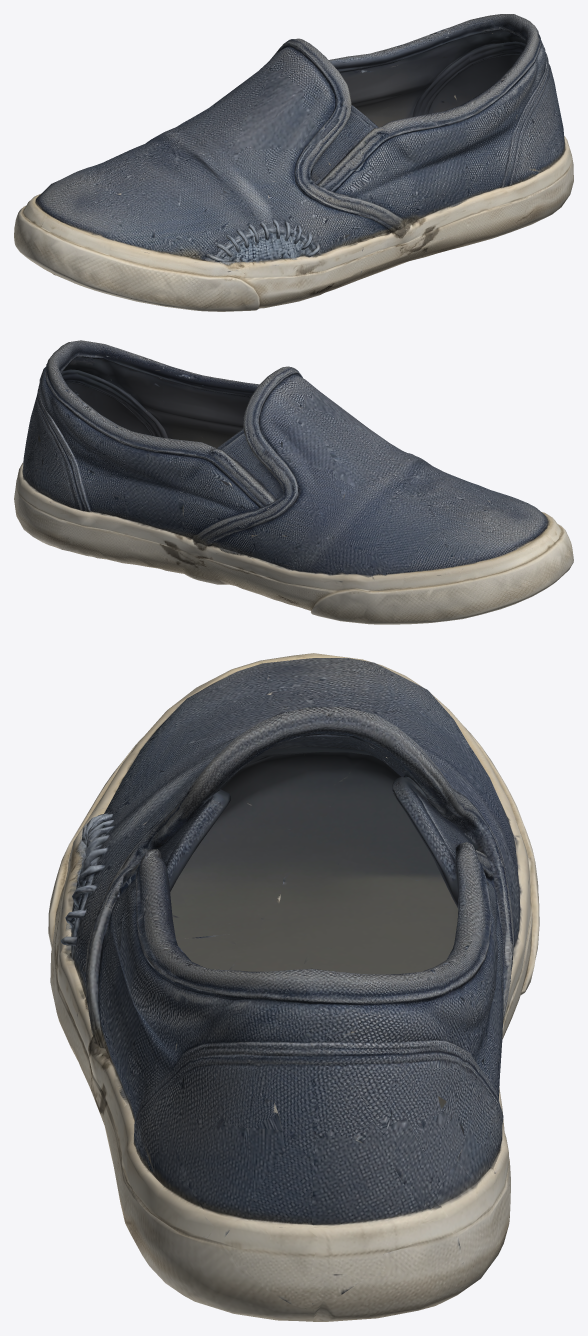
File: shoe.glb
3 renders of one model, top to bottom at view 1: azimuth 30°, elevation 25°; view 2: azimuth 150°, elevation 25°; view 3: azimuth 270°, elevation 25°, orthographic. The views are drawn at different scales.
Parts seen in each view (by area): view 1: 蓝色儿童布鞋; view 2: 蓝色儿童布鞋; view 3: 蓝色儿童布鞋.
Boxes of the visible parts, x1,y1,x2,y2 form: 蓝色儿童布鞋: (14, 14, 573, 311); 蓝色儿童布鞋: (14, 340, 573, 624); 蓝色儿童布鞋: (48, 653, 539, 1321).
Bounding box in the file's own units: 1.9 × 0.6658 × 0.7624.
1 material, 1 textured.
